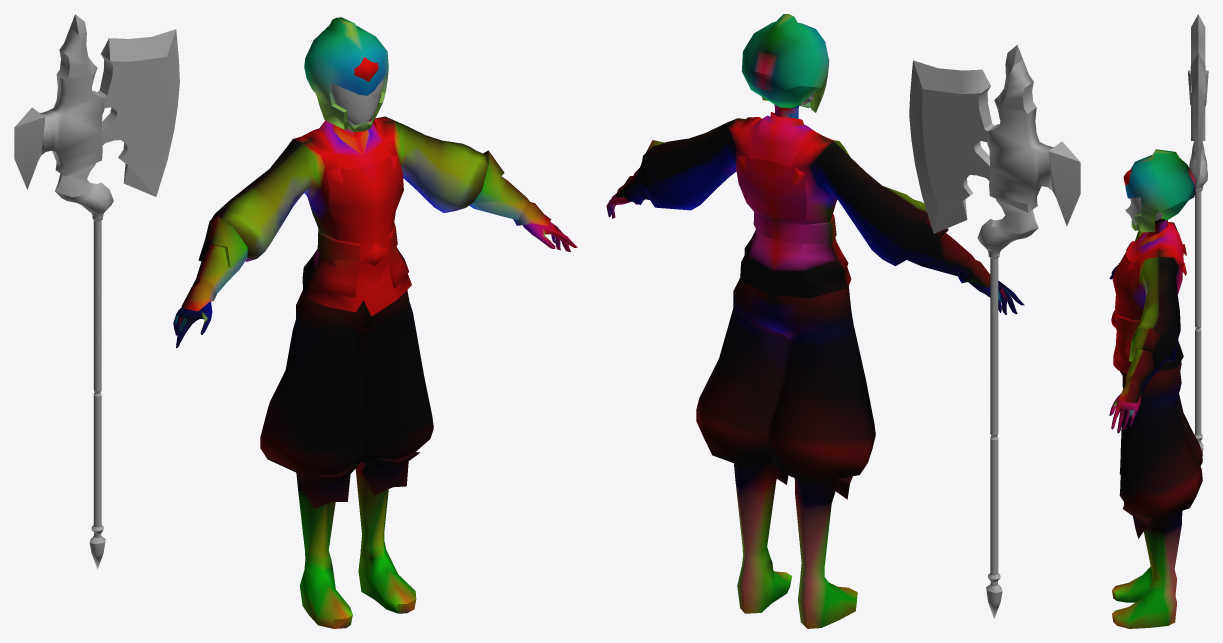
File: m_011_axe_soldier_5_view.fbx
3 views of the same model, side by side, from view 1: azimuth 30°, elevation 25°; view 2: azimuth 150°, elevation 25°; view 3: azimuth 270°, elevation 25° (orthographic). The views are drawn at different scales.
Visible parts, largest first — view 1: m_011_axe_soldier_5; view 2: m_011_axe_soldier_5; view 3: m_011_axe_soldier_5.
Boxes of the visible parts, x1,y1,x2,y2 form: m_011_axe_soldier_5: (14, 14, 577, 628); m_011_axe_soldier_5: (606, 14, 1080, 628); m_011_axe_soldier_5: (1109, 14, 1208, 628).
Bounding box in the file's own units: 209 × 246 × 44.32.
